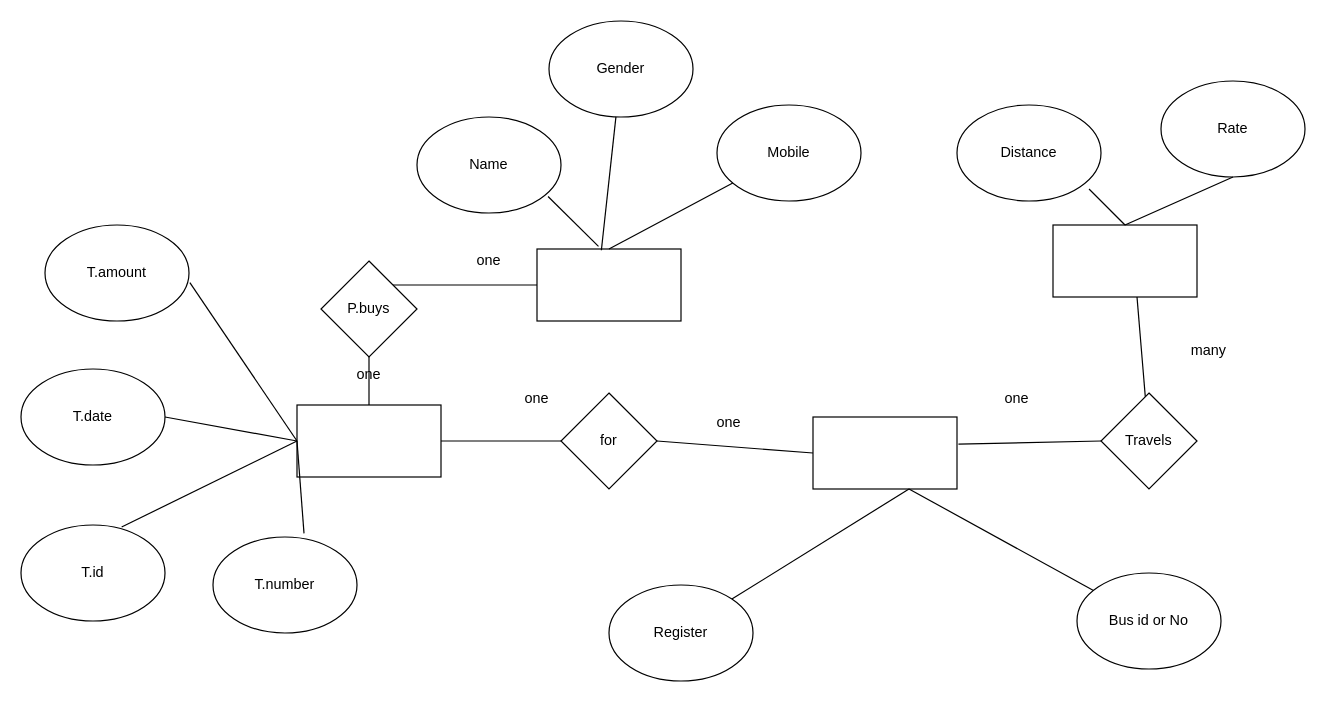
Image size: 1326x702. Some labels were removed from this diagram. Here are the shapes that lost their labels. From the top down, the centre of each, then its label:
the point at 1124,260: Route
the point at 608,284: Passenger
the point at 368,440: Ticket
the point at 884,452: Bus
